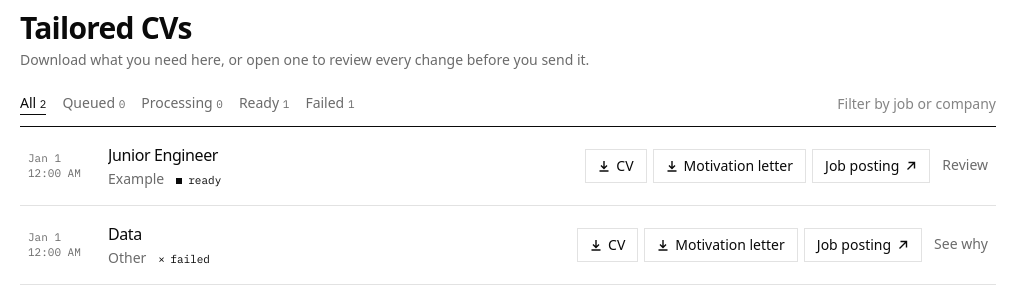
Scenario: History › filters by status and by company
Expected: the link "Data" is shown, left=108, top=223, right=142, bottom=245
Click the button "Failed 1".
click(330, 104)  # box left=305, top=93, right=354, bottom=115
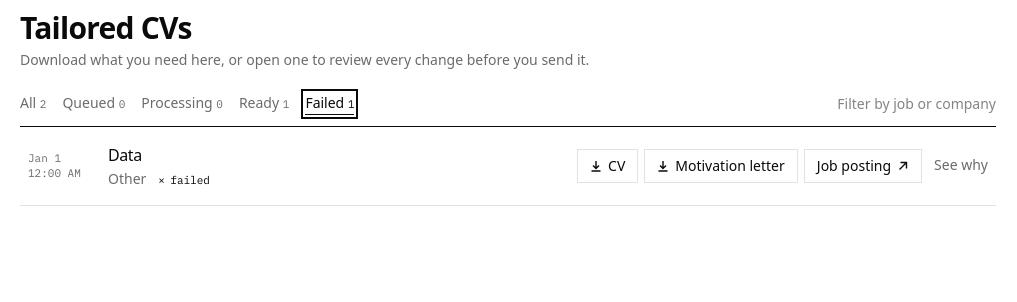
Expected: the link "Junior Engineer" is gone
Click the button "All 2".
click(33, 104)  # box left=20, top=93, right=46, bottom=115
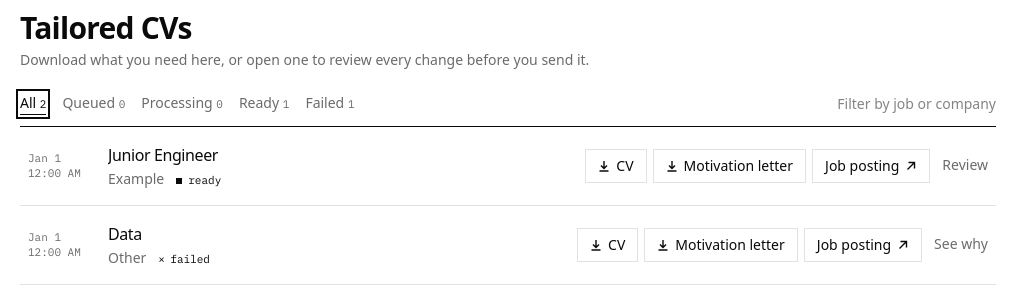
Type "other" into the field labelled "Filter by job or company".
click(884, 104); type("other")  # box left=772, top=90, right=996, bottom=118
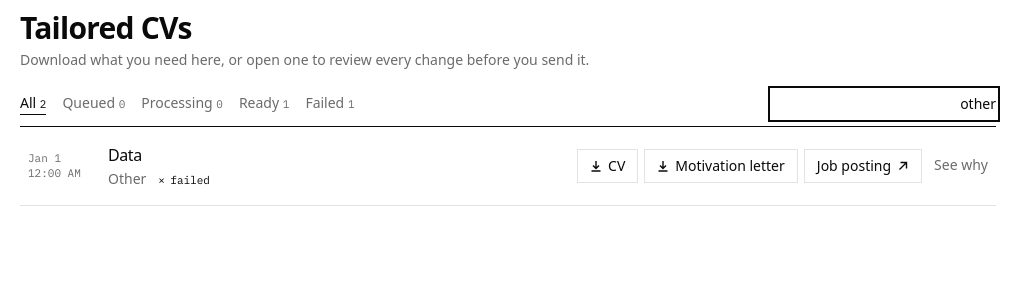
Expected: the link "Data" is shown, left=108, top=144, right=142, bottom=166
Expected: the link "Junior Engineer" is gone
